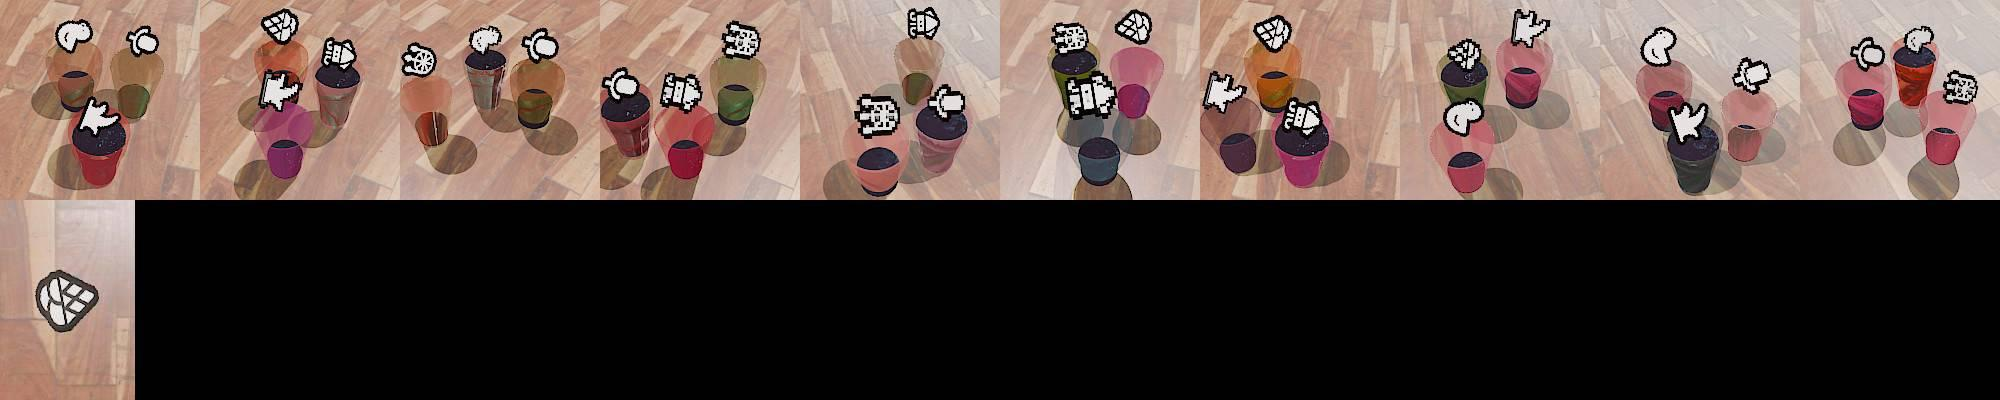icon: (33, 269, 100, 333), (1060, 71, 1118, 121), (853, 91, 900, 139), (659, 70, 704, 112), (1203, 70, 1246, 113), (1669, 99, 1710, 144), (259, 69, 302, 110), (75, 96, 120, 135), (721, 20, 762, 59), (1443, 98, 1485, 136), (1510, 8, 1550, 47), (1253, 14, 1294, 52), (600, 66, 643, 102), (520, 27, 561, 64), (1732, 56, 1772, 93), (1641, 26, 1678, 66), (1049, 20, 1090, 56), (261, 8, 300, 45), (1115, 9, 1153, 46), (1283, 97, 1322, 133), (1941, 70, 1979, 106), (928, 84, 967, 119), (55, 19, 94, 54), (401, 42, 437, 78), (319, 37, 357, 71), (906, 6, 941, 42), (1849, 35, 1886, 69), (1446, 38, 1484, 70), (467, 24, 504, 56), (1901, 26, 1935, 57), (125, 25, 159, 56)
